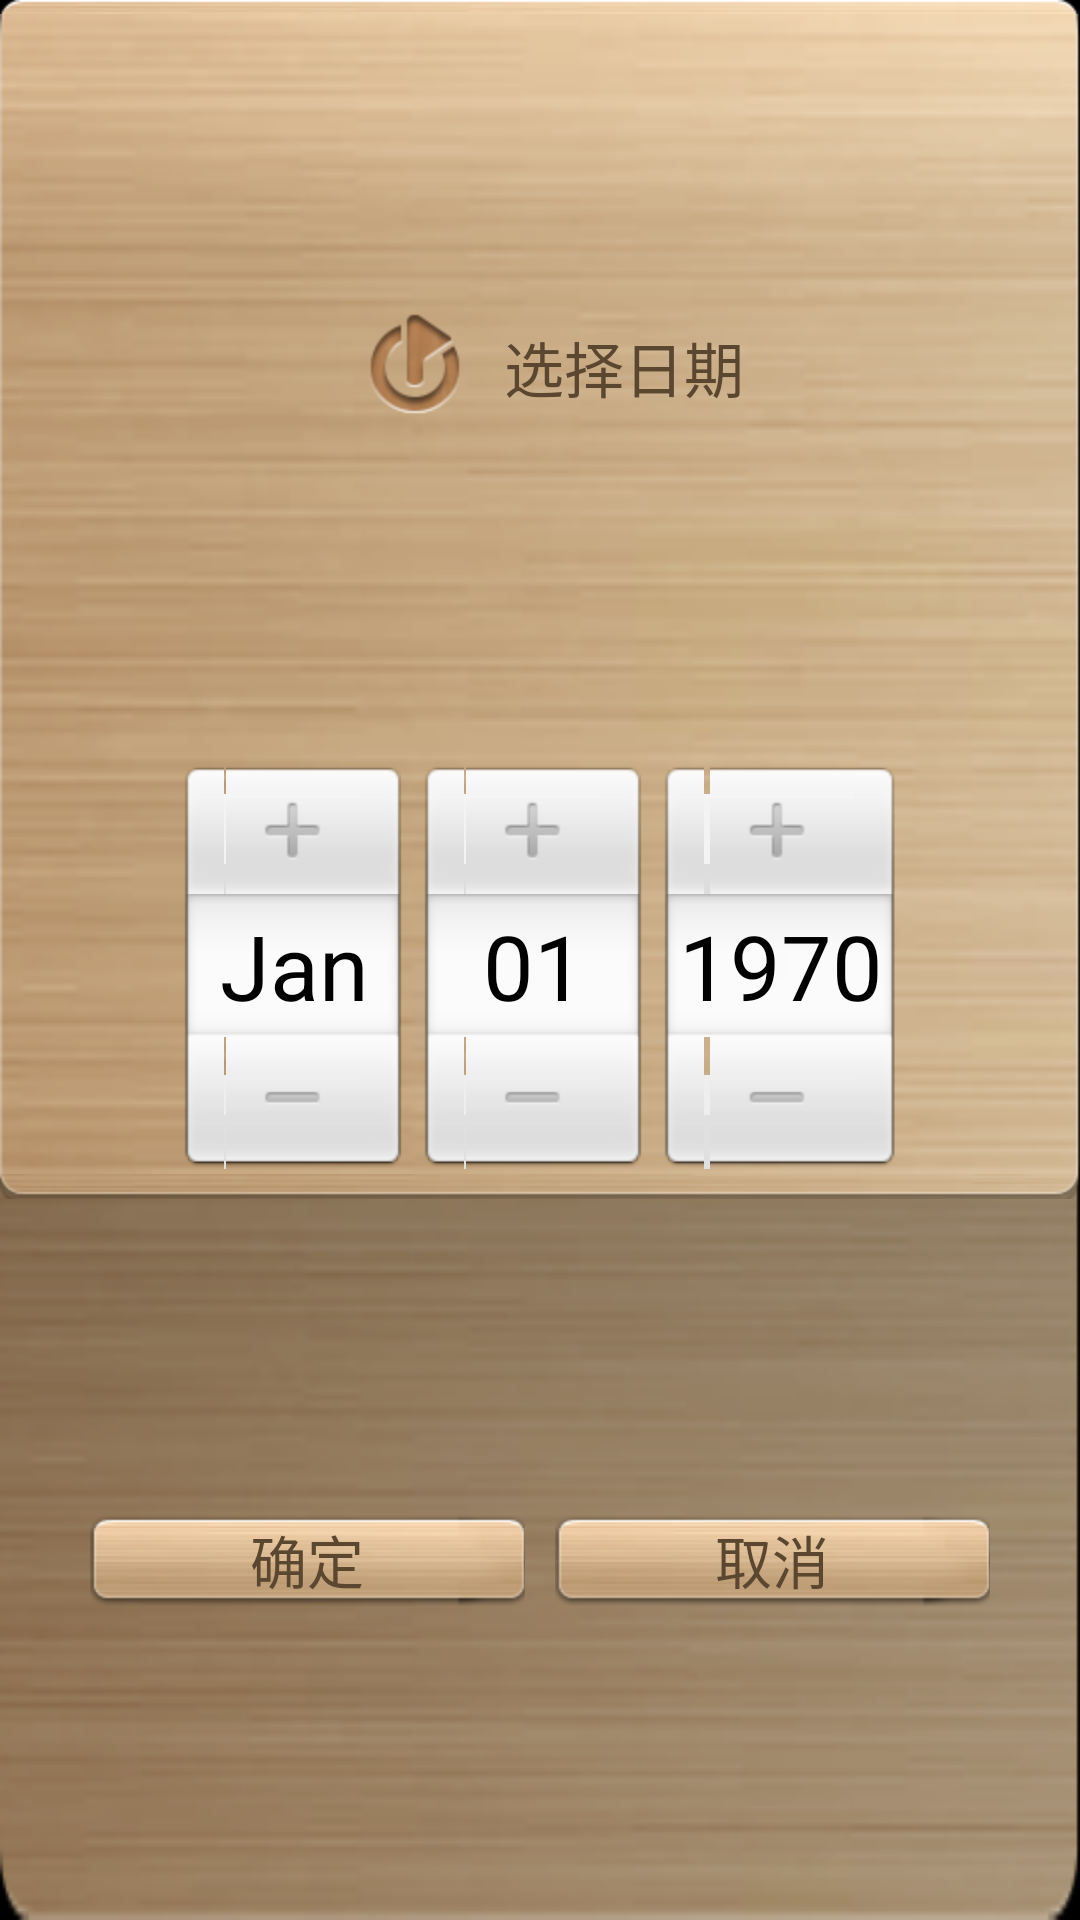

Screen size 1080px x 1920px. Icon name, then its box in pixels as box=[x1, y1, x2, y2]:
goto title: box=[371, 314, 459, 414]
